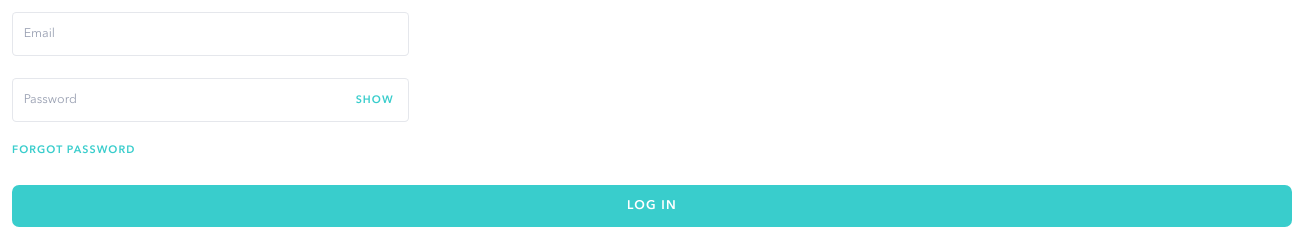
LoginForm › disables form fields during loading state
Type "test@example.com" into the field with test id "email-input". click: (211, 34)
box: x1=12 y1=12 x2=409 y2=56
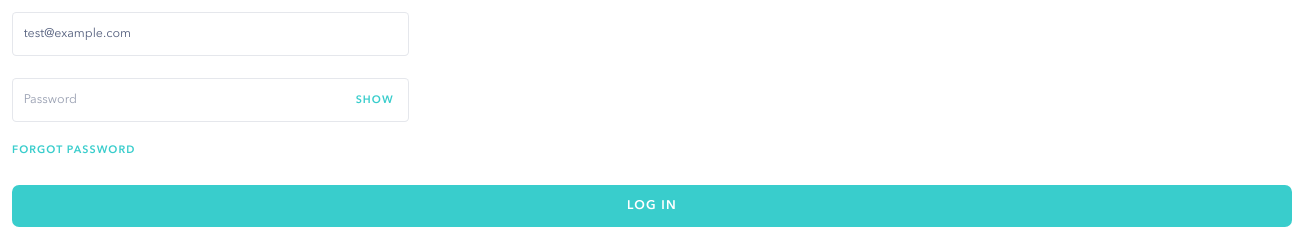
Type "password123" into the password field with test id "password-input". click: (211, 100)
box: x1=12 y1=78 x2=409 y2=122
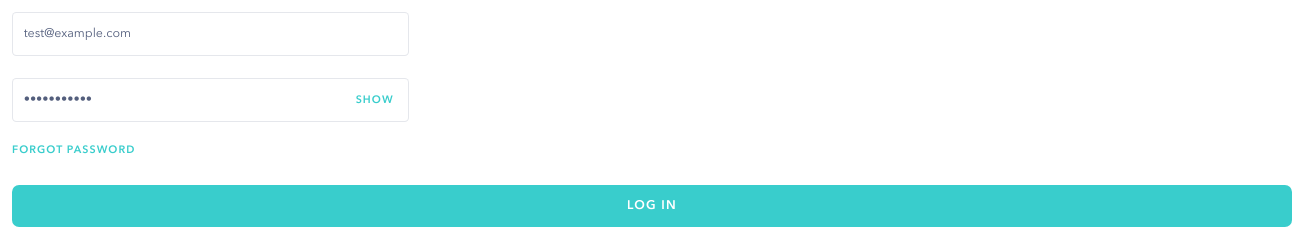
Click the button "Log In". click: (652, 206)
box: x1=12 y1=185 x2=1292 y2=228
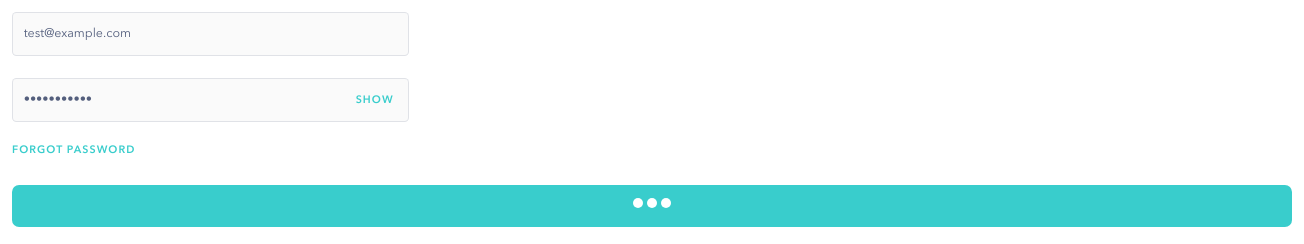
Expected: the field with test id "email-input" is disabled, x1=12 y1=12 x2=409 y2=56
Now the button named "log in" is disabled, box x1=12 y1=185 x2=1292 y2=228
